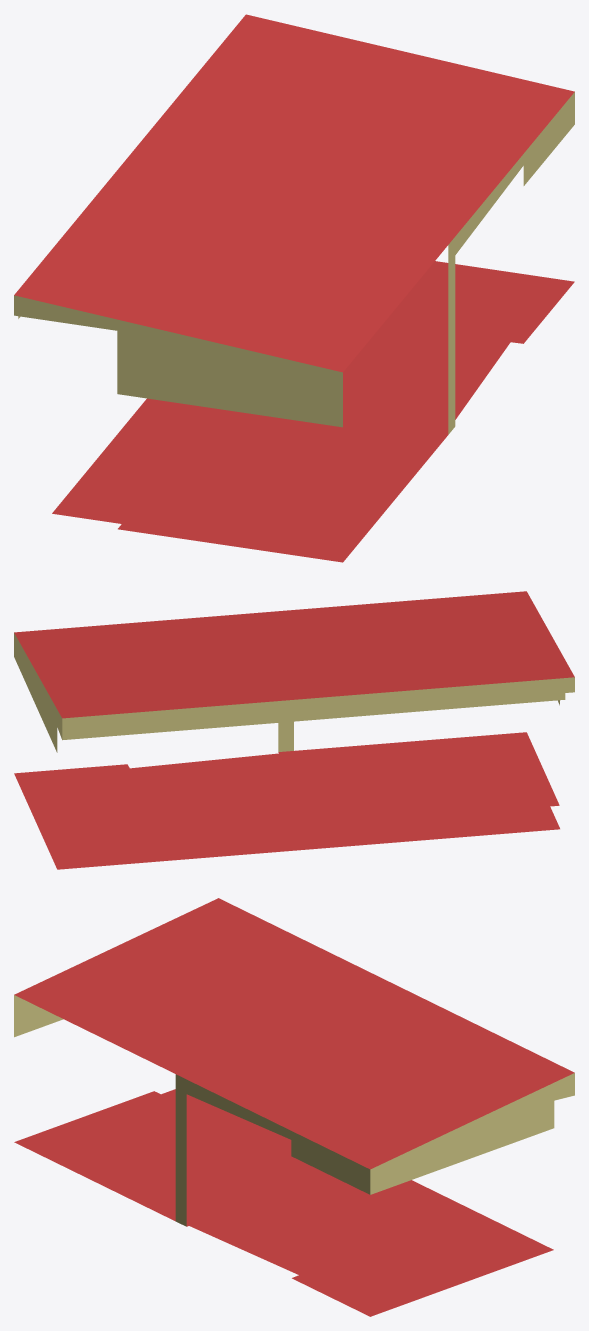
The picture shows the model from 3 angles, top to bottom: view 1: azimuth 30°, elevation 25°; view 2: azimuth 150°, elevation 25°; view 3: azimuth 270°, elevation 25°; orthographic projection. The views are drawn at different scales.
Bounding box in the file's own units: 47.9 × 45.56 × 15.2.
